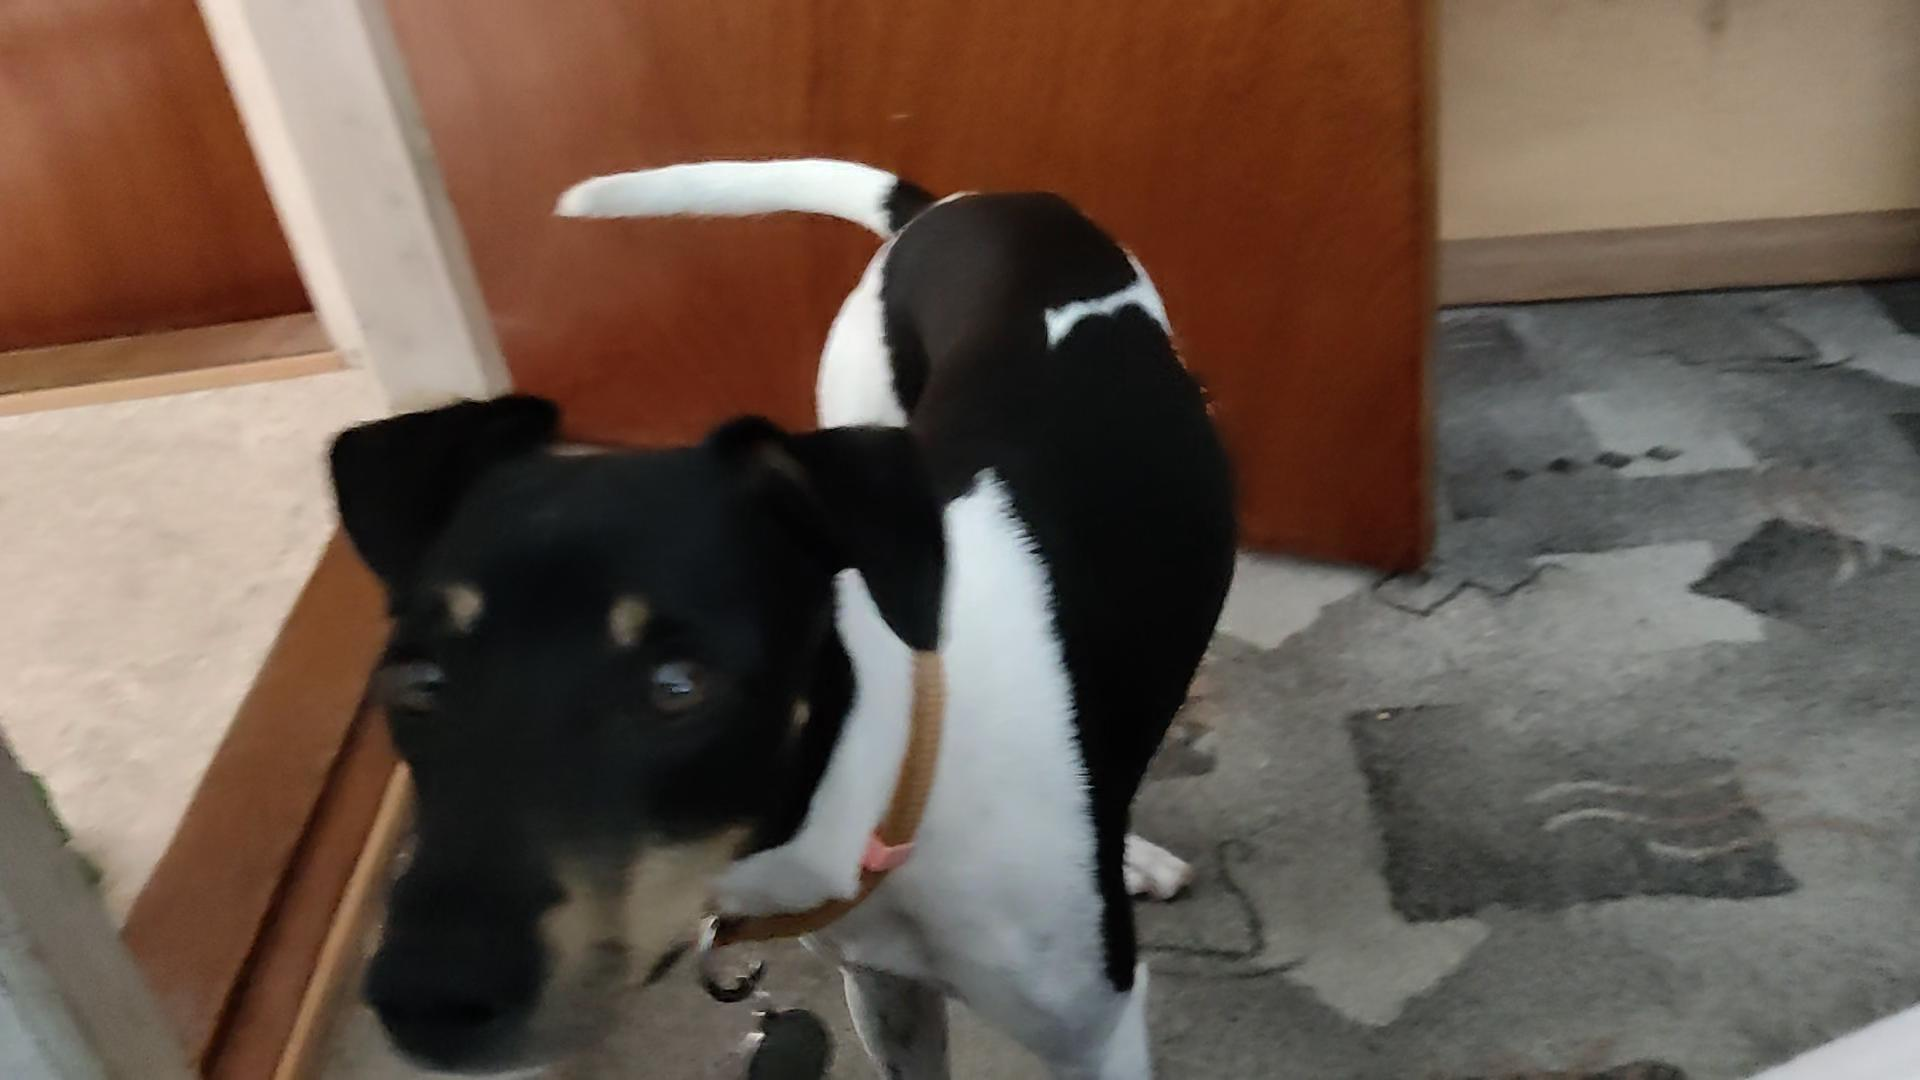Dog: (313, 152, 1255, 1079)
